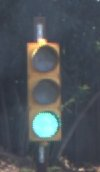Green: (22, 33, 65, 147)
